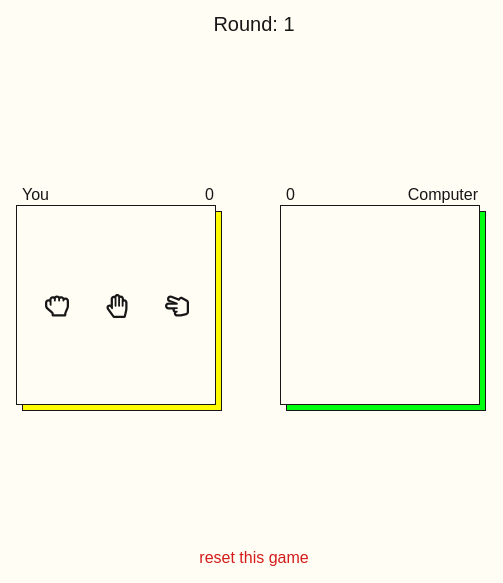
Rock Paper Scissors › User selections › user selects scissors
Click the 3rd button with test id "rps-user-choice".
click(177, 306)  # box x1=157 y1=286 x2=197 y2=326
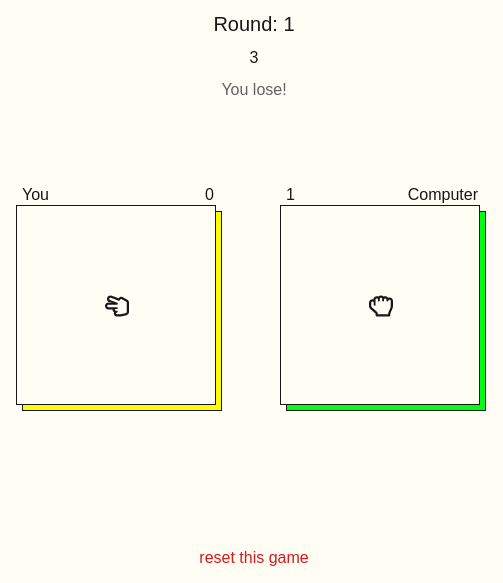
Check: the element with test id "rps-user-selection-2" is shown, box x1=105 y1=294 x2=129 y2=318
